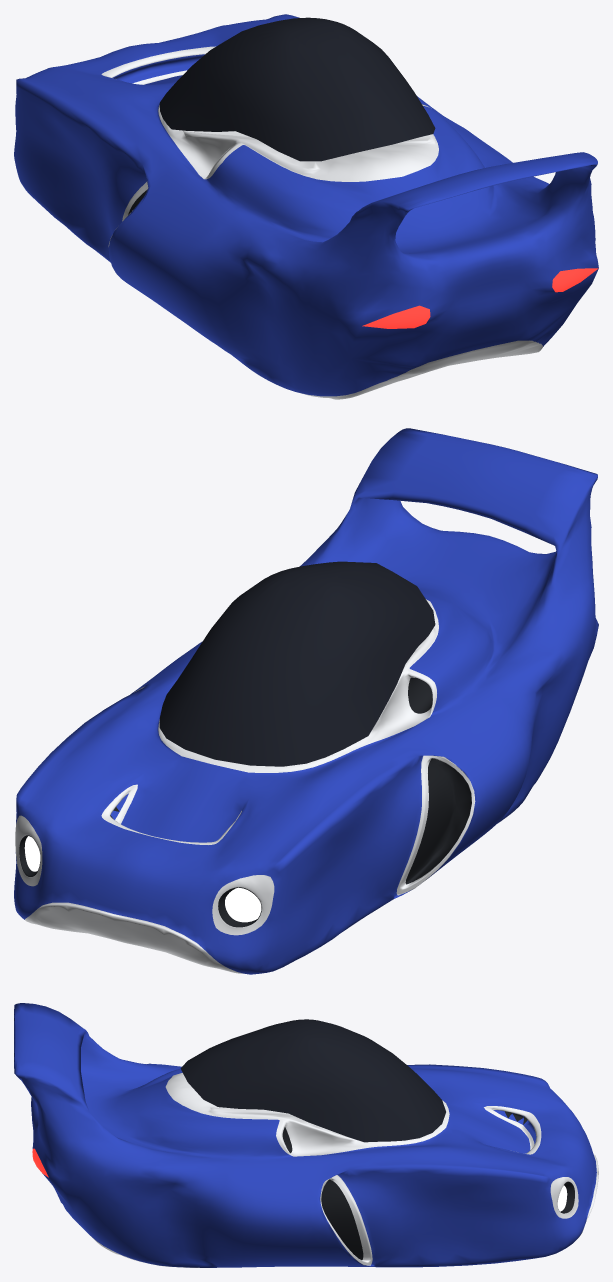
The model's file is v2-reference.glb.
The picture shows the model from 3 angles, top to bottom: view 1: azimuth 30°, elevation 25°; view 2: azimuth 150°, elevation 25°; view 3: azimuth 270°, elevation 25°; orthographic projection. The views are drawn at different scales.
Parts seen in each view (by area): view 1: Body.001, Canopy; view 2: Body.001, Canopy; view 3: Body.001, Canopy.
Boxes of the visible parts, x1,y1,x2,y2 form: Body.001: (14,14,598,399); Canopy: (159,17,435,161); Body.001: (14,428,598,974); Canopy: (159,561,435,766); Body.001: (14,1003,598,1267); Canopy: (180,1019,445,1142).
Bounding box in the file's own units: 2.05 × 1.42 × 3.81.
